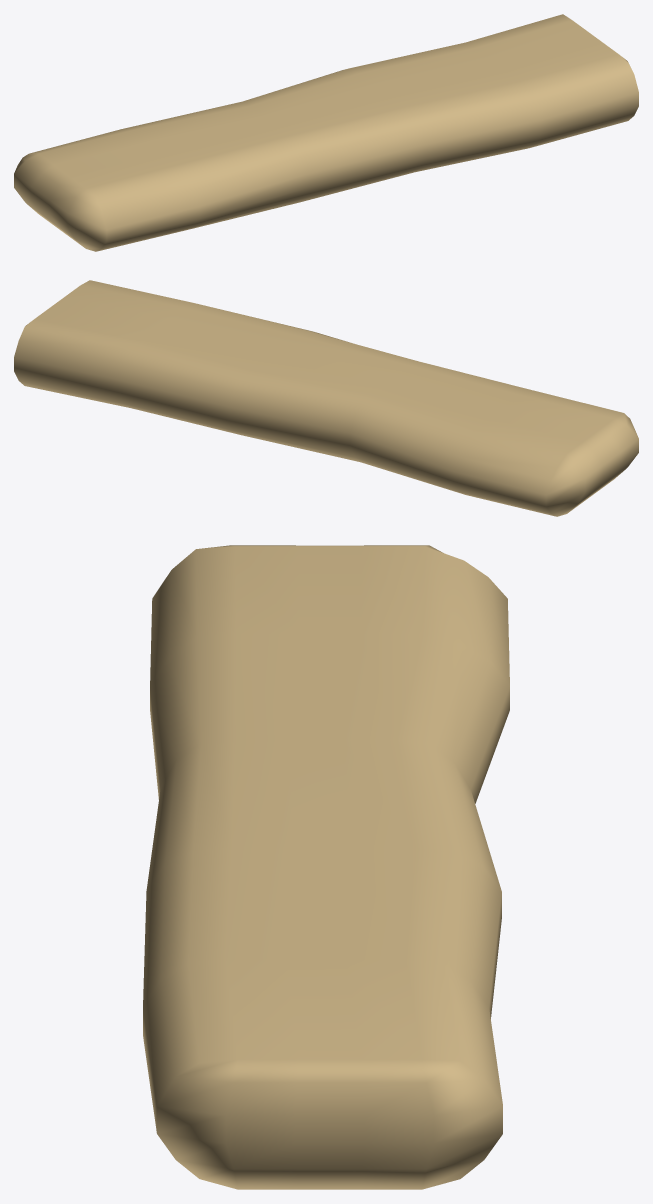
The model's file is stairstep.fbx.
3 renders of one model, top to bottom at view 1: azimuth 30°, elevation 25°; view 2: azimuth 150°, elevation 25°; view 3: azimuth 270°, elevation 25°, orthographic. The views are drawn at different scales.
Visible parts, largest first — view 1: stairstep; view 2: stairstep; view 3: stairstep.
Boxes of the visible parts, left/top/right/bottom form: stairstep: left=14, top=14, right=638, bottom=251; stairstep: left=14, top=280, right=638, bottom=516; stairstep: left=143, top=545, right=509, bottom=1189.
Bounding box in the file's own units: 327 × 37.33 × 91.88.
